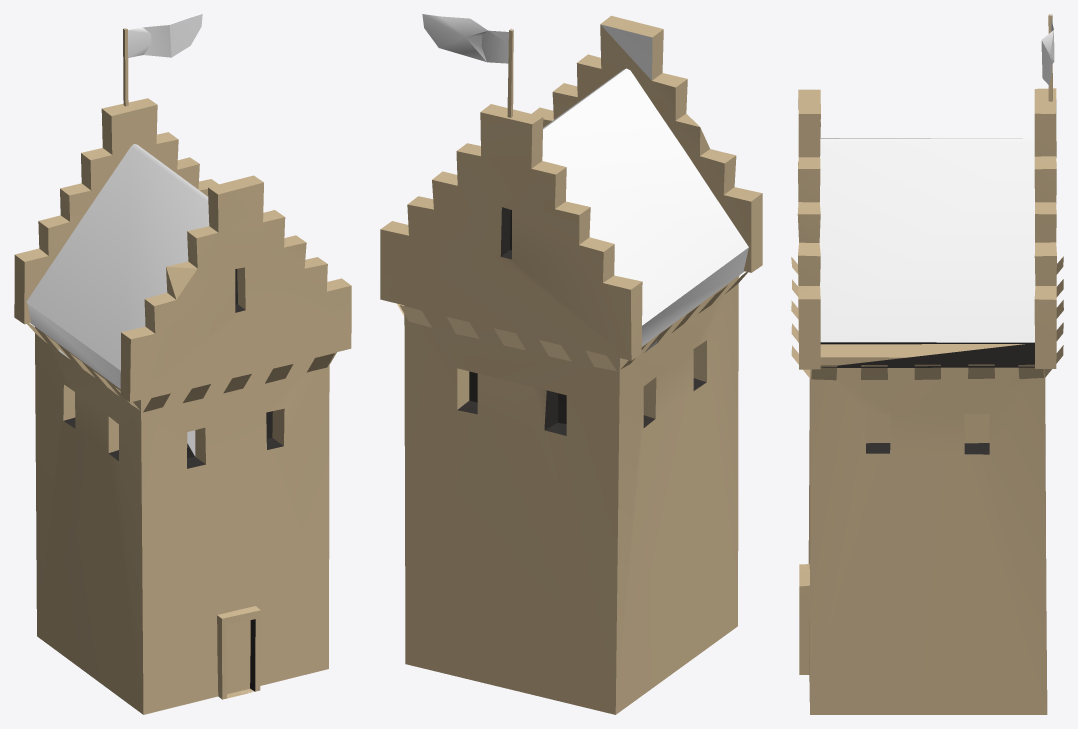
The picture shows the model from 3 angles, left to right: view 1: azimuth 30°, elevation 25°; view 2: azimuth 150°, elevation 25°; view 3: azimuth 270°, elevation 25°; orthographic projection. The views are drawn at different scales.
Visible parts, largest first — view 1: base; view 2: base; view 3: base.
Part boxes in pixels (x1,y1,x2,y2): base: (14,14,351,714); base: (380,14,762,714); base: (791,14,1063,714).
Size of the model in its own units: 1.9 by 4.78 by 1.82.
